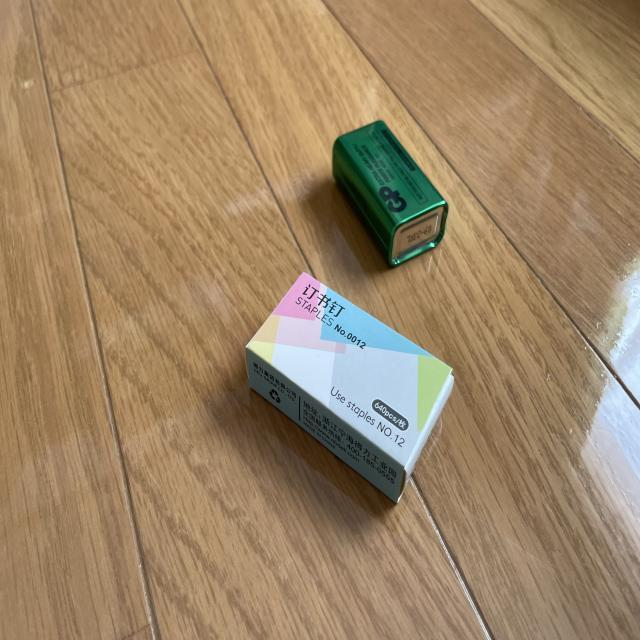9V: (331, 118, 448, 266)
